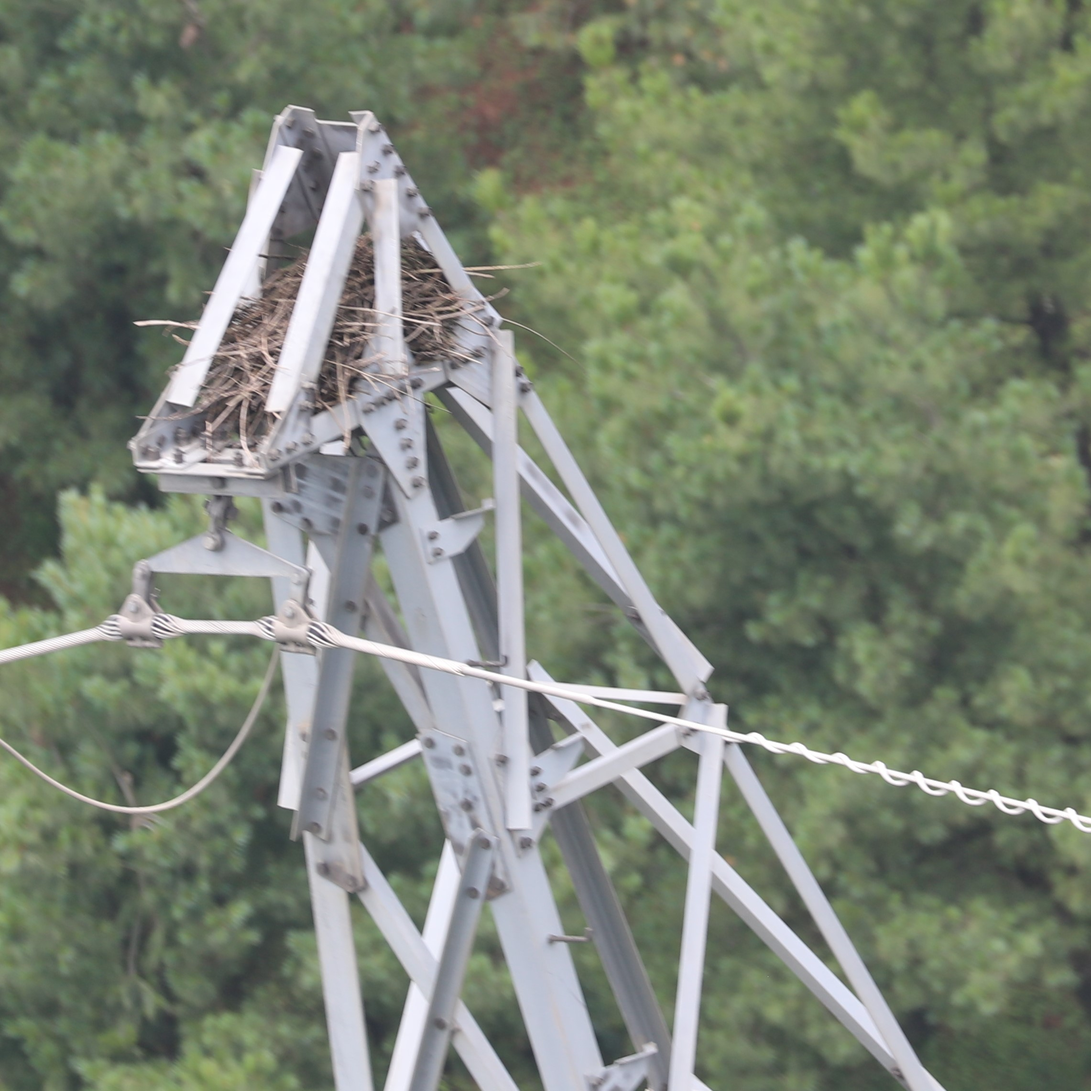nest: (196, 243, 482, 408)
